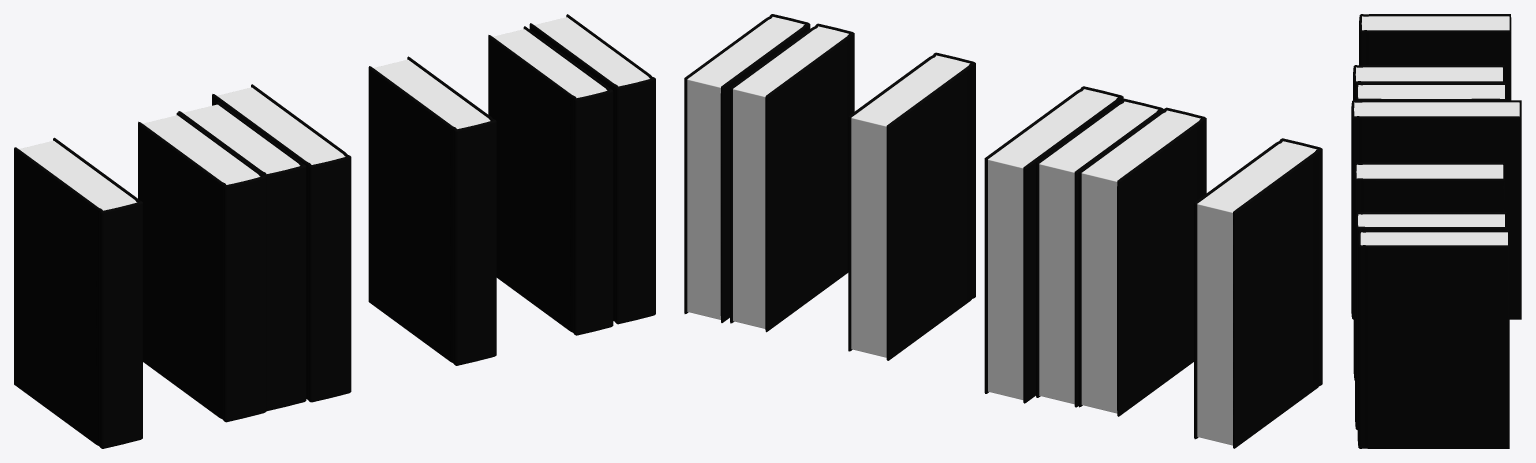
Rendered from lfc_decorative_book_set.glb.
3 renders of one model, left to right at view 1: azimuth 30°, elevation 25°; view 2: azimuth 150°, elevation 25°; view 3: azimuth 270°, elevation 25°, orthographic. The views are drawn at different scales.
Parts seen in each view (by area): view 1: book_hardcover_01_cover02, book_hardcover_01_cover13, book_hardcover_01_cover06, book_hardcover_01_cover15, book_hardcover_01_cover08, book_hardcover_01_cover23, book_hardcover_01_cover07; view 2: book_hardcover_01_cover02, book_hardcover_01_cover13, book_hardcover_01_cover06, book_hardcover_01_cover15, book_hardcover_01_cover08, book_hardcover_01_cover23, book_hardcover_01_cover07; view 3: book_hardcover_01_cover23, book_hardcover_01_cover08, book_hardcover_01_cover02, book_hardcover_01_cover13, book_hardcover_01_cover15, book_hardcover_01_cover07, book_hardcover_01_cover06.
Boxes of the visible parts, left/top/right/bottom form: book_hardcover_01_cover02: left=14, top=137, right=142, bottom=448; book_hardcover_01_cover13: left=368, top=56, right=496, bottom=365; book_hardcover_01_cover06: left=138, top=112, right=266, bottom=422; book_hardcover_01_cover15: left=488, top=26, right=613, bottom=335; book_hardcover_01_cover08: left=212, top=84, right=351, bottom=402; book_hardcover_01_cover23: left=529, top=14, right=655, bottom=324; book_hardcover_01_cover07: left=178, top=101, right=306, bottom=411; book_hardcover_01_cover02: left=1194, top=138, right=1322, bottom=448; book_hardcover_01_cover13: left=848, top=52, right=975, bottom=360; book_hardcover_01_cover06: left=1078, top=107, right=1206, bottom=416; book_hardcover_01_cover15: left=730, top=23, right=854, bottom=332; book_hardcover_01_cover08: left=984, top=86, right=1123, bottom=403; book_hardcover_01_cover23: left=684, top=14, right=810, bottom=322; book_hardcover_01_cover07: left=1036, top=98, right=1163, bottom=407; book_hardcover_01_cover23: left=1357, top=230, right=1509, bottom=448; book_hardcover_01_cover08: left=1351, top=100, right=1521, bottom=319; book_hardcover_01_cover02: left=1359, top=14, right=1511, bottom=100; book_hardcover_01_cover13: left=1353, top=162, right=1504, bottom=380; book_hardcover_01_cover15: left=1355, top=212, right=1506, bottom=429; book_hardcover_01_cover07: left=1355, top=82, right=1506, bottom=100; book_hardcover_01_cover06: left=1353, top=65, right=1504, bottom=99.
Size of the model in its own units: 0.5545 by 0.2278 by 0.1722.
7 materials, 7 textured.
